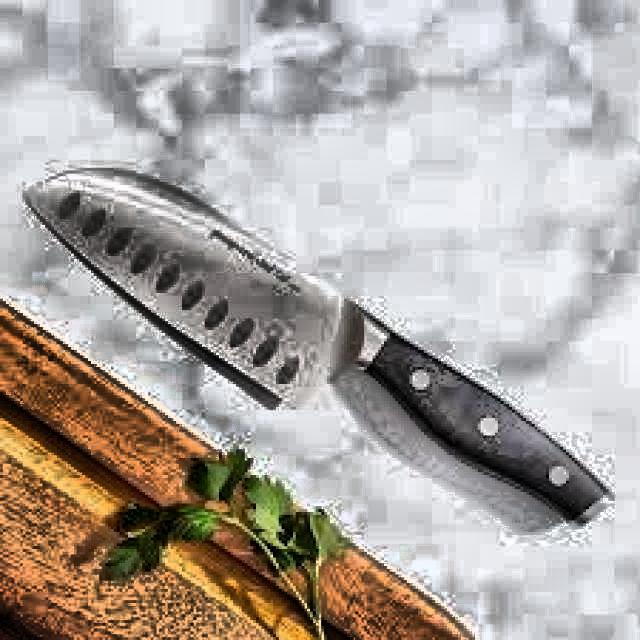knife: (21, 156, 618, 542)
